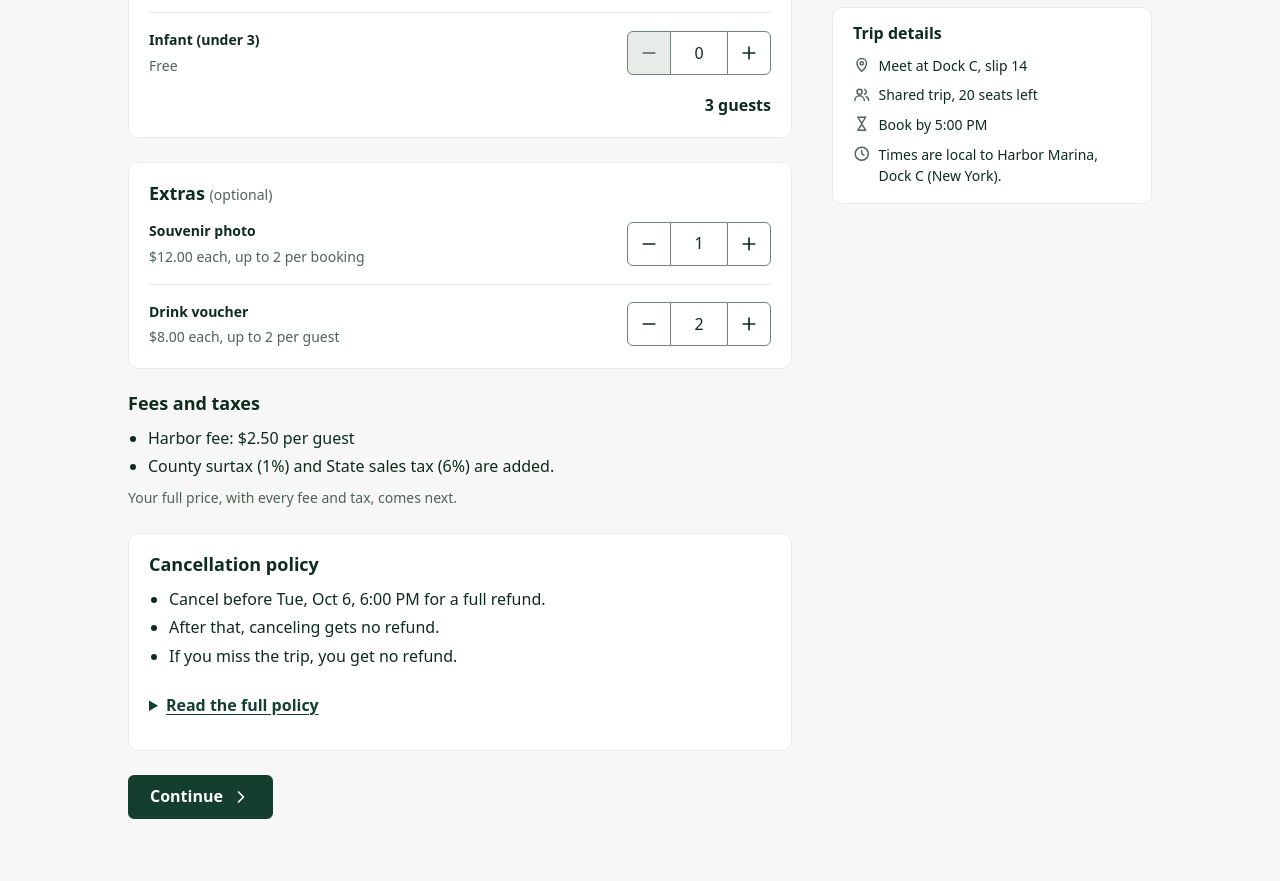
the price › keeps the current price and marks the field when a code is refused
(page scrolled)
Click the button "Continue": (200,797) [128,775,273,819]
(page scrolled)
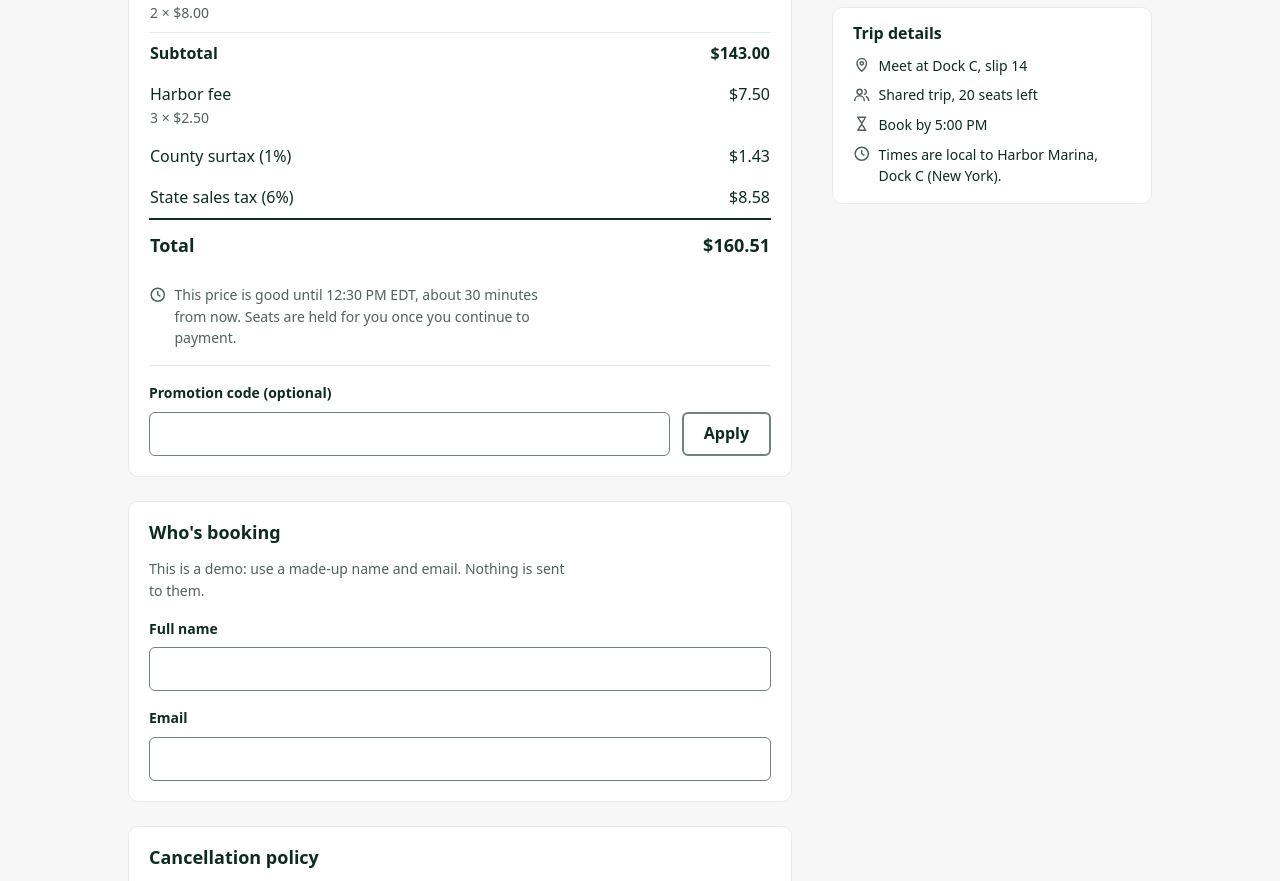
In the field labelled "Promotion code (optional)": (409,434) [149,412,670,456], type "NOPE123"
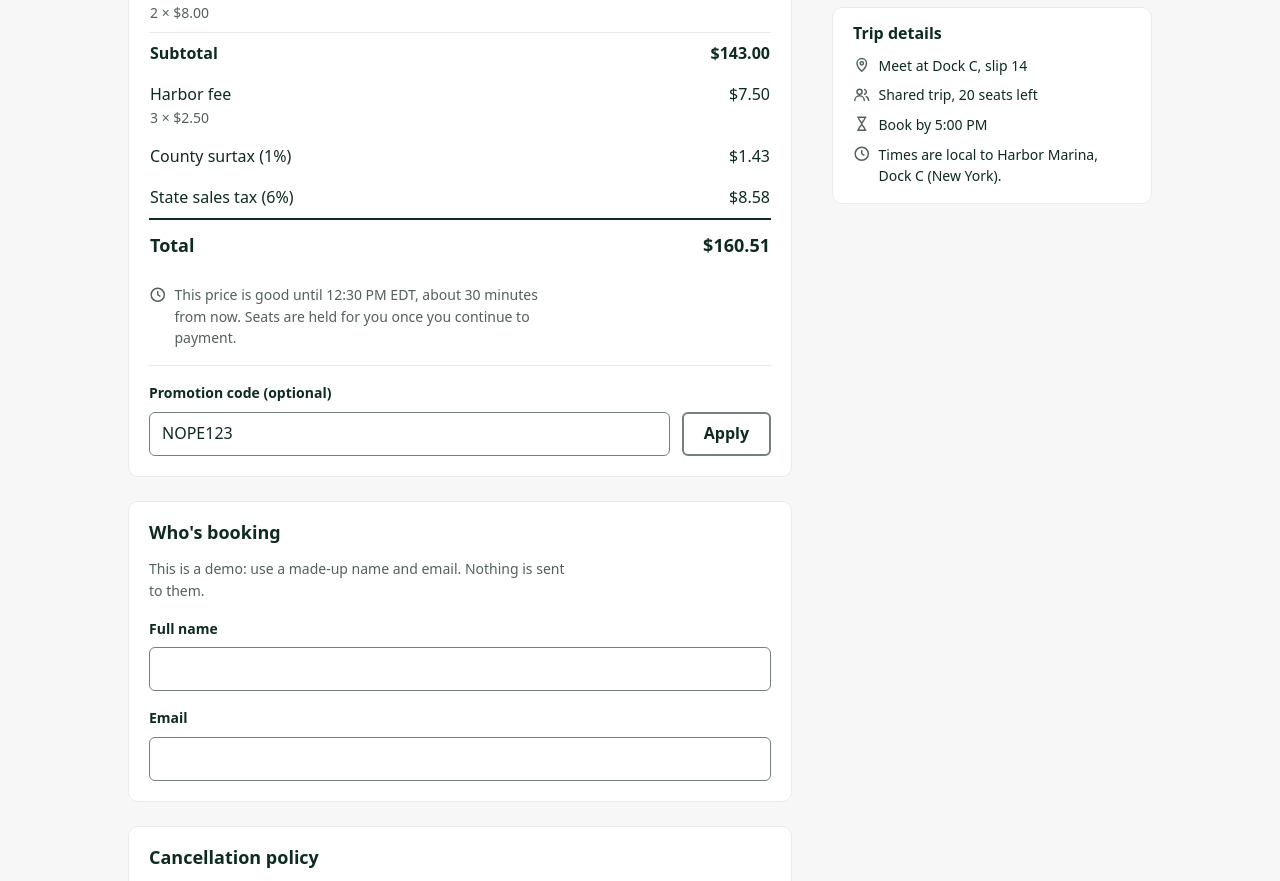
Click the button "Apply": (726,434) [682,412,771,456]
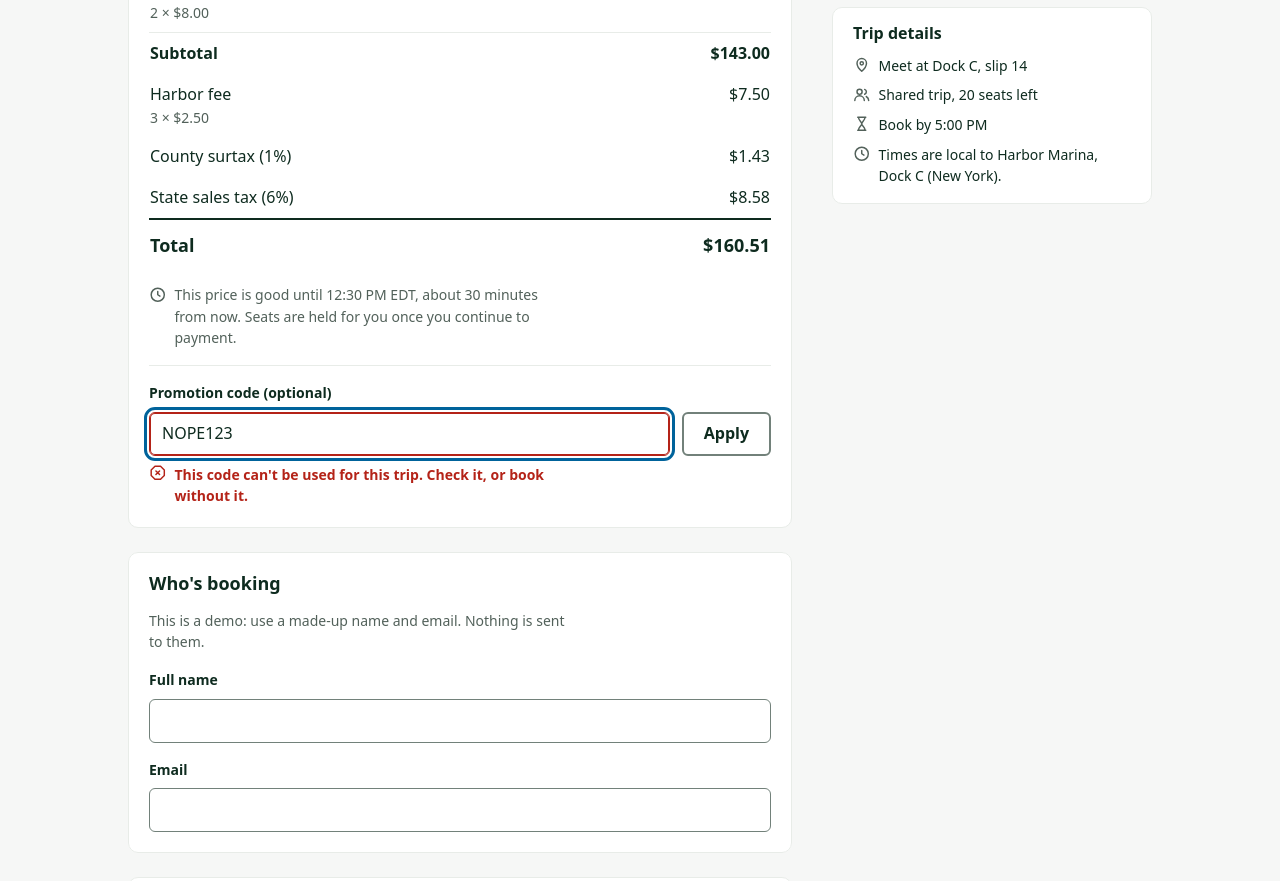
Expected: the text "This code can't be used for this trip. Check it, or book without it." is shown, [174,464,569,507]
